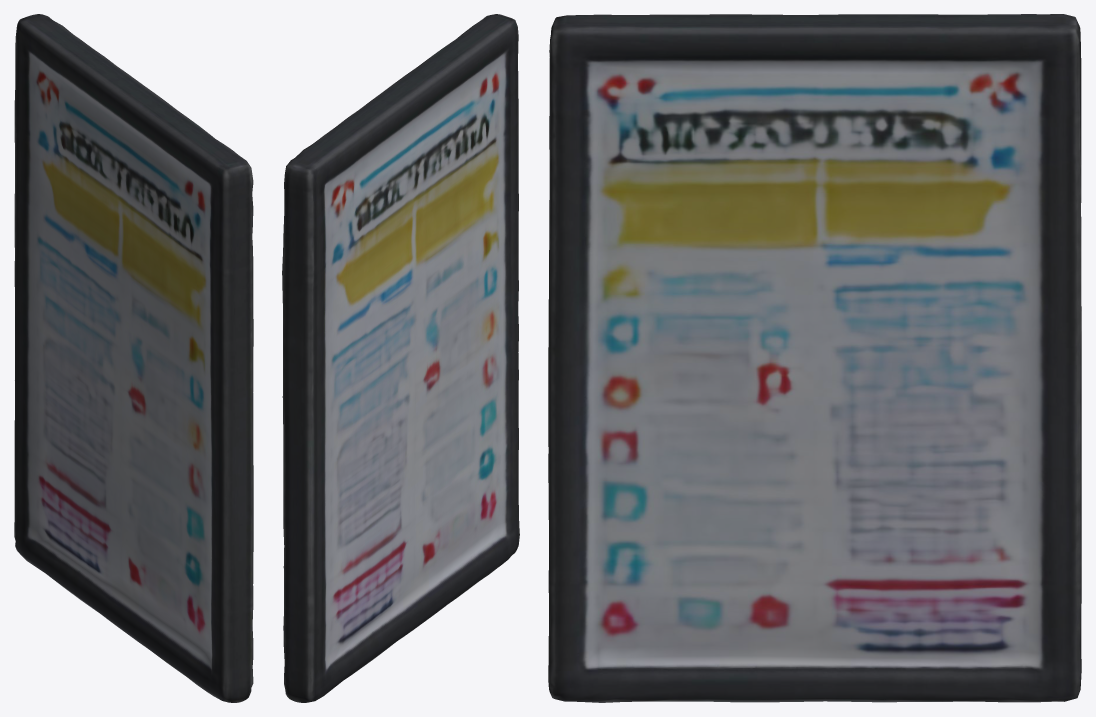
Rendered from framed_poster.fbx.
The picture shows the model from 3 angles, left to right: view 1: azimuth 30°, elevation 25°; view 2: azimuth 150°, elevation 25°; view 3: azimuth 270°, elevation 25°; orthographic projection. The views are drawn at different scales.
Parts seen in each view (by area): view 1: mesh; view 2: mesh; view 3: mesh.
Part boxes in pixels (<box>): mesh: <box>14,14,253,702</box>; mesh: <box>282,14,519,702</box>; mesh: <box>548,14,1081,702</box>.
Size of the model in its own units: 6.38 by 99.86 by 71.33.
